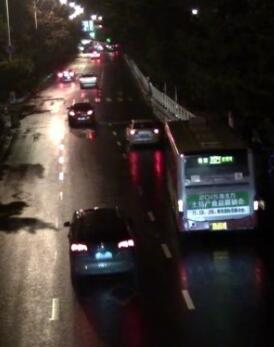bus: (163, 116, 262, 235)
car: (62, 207, 141, 282), (124, 116, 162, 143), (66, 102, 97, 124), (78, 72, 97, 87), (58, 68, 75, 82)
